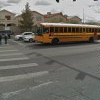crosswalk: (0, 49, 49, 97)
